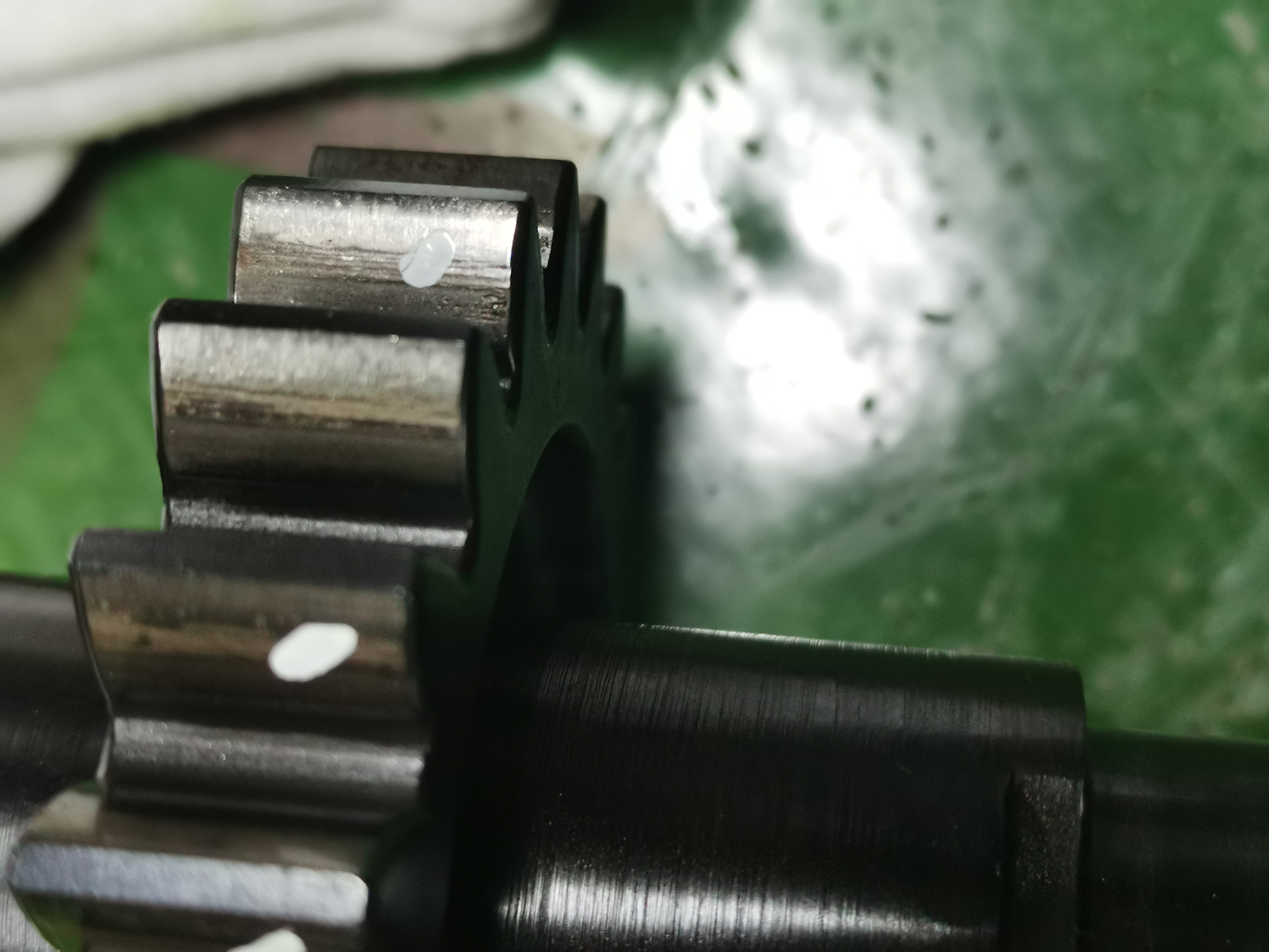Abrasion: (54, 560, 448, 741), (139, 320, 485, 501), (231, 177, 522, 332)
